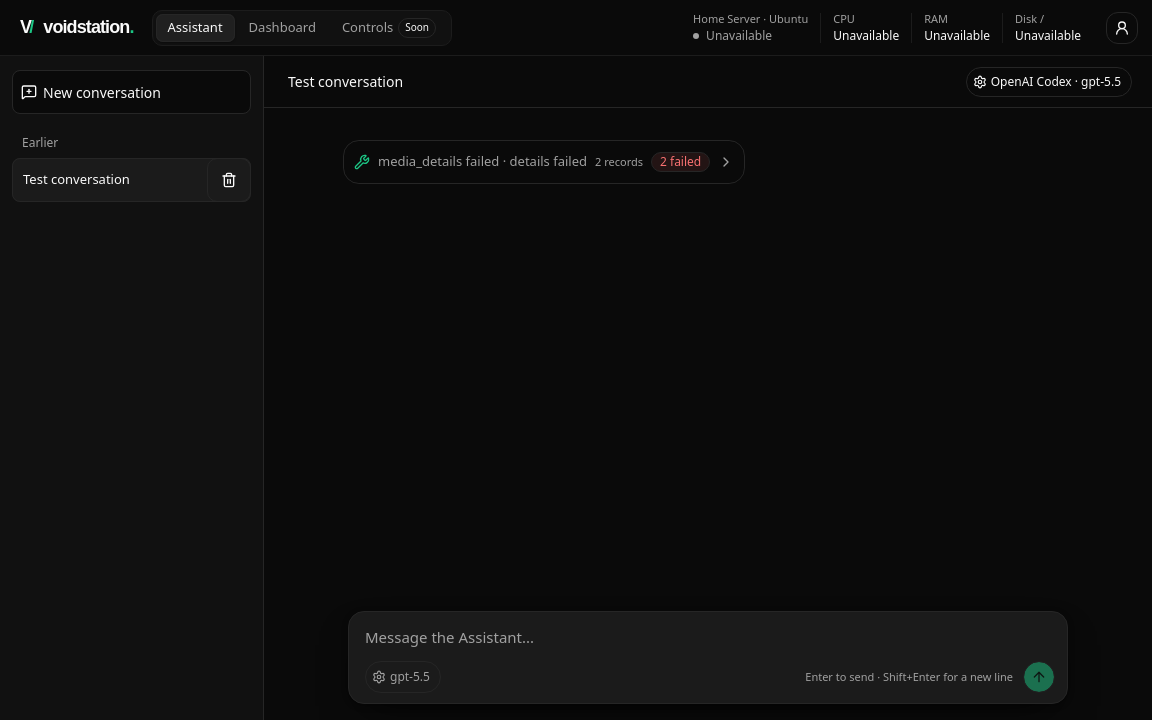
Test case: shows tool errors in the collapsed summary and retains their technical results
Expected: the text box labelled "Message the Assistant" is enabled, x1=365 y1=624 x2=1055 y2=657
Expected: the button "OpenAI Codex · gpt-5.5" is shown, x1=966 y1=66 x2=1132 y2=96
Click the button "media_details failed · details failed 2 records 2 failed" at coordinates (544, 162), box x1=343 y1=140 x2=745 y2=184
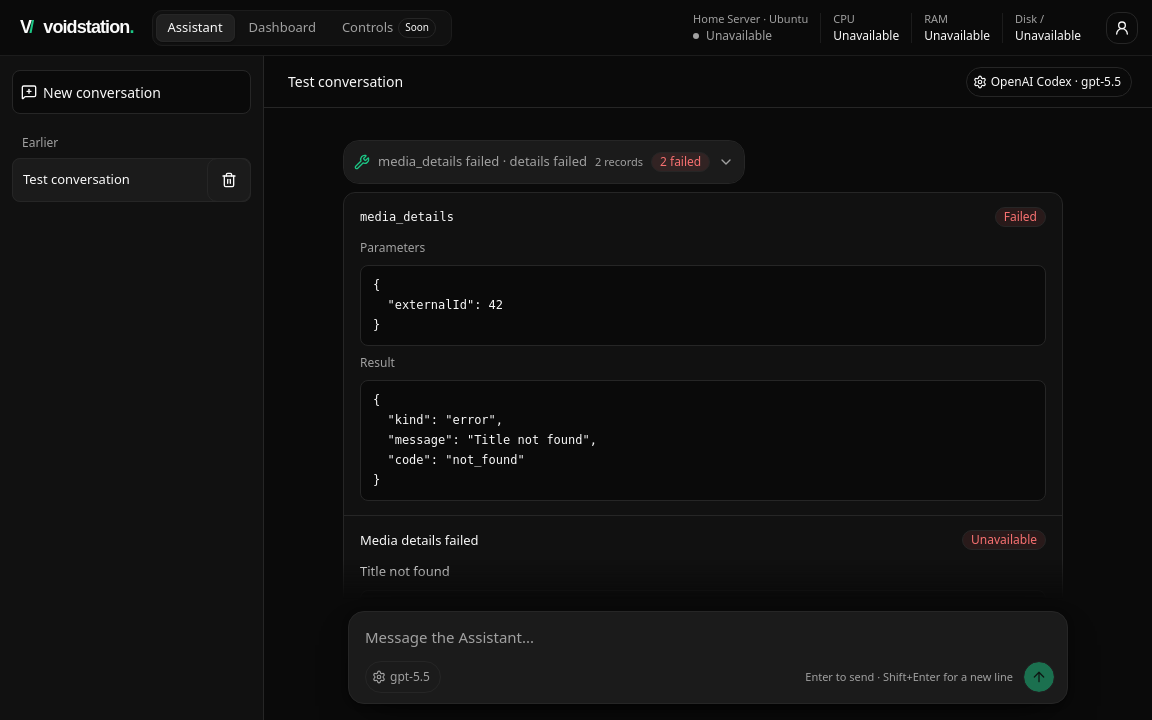
Result: the text "{ \"externalId\": 42 }" is shown at x1=360 y1=265 x2=1046 y2=346
Result: the text "Title not found" is shown at x1=360 y1=562 x2=450 y2=580
Result: the text "\"code\": \"not_found\"" is shown 2 times
